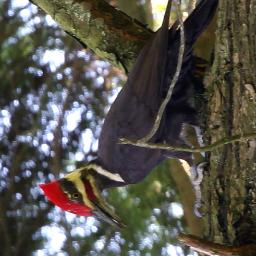Woodpecker: (37, 0, 226, 230)
